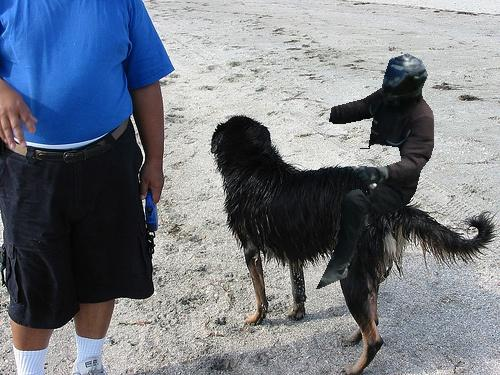tampered: (317, 54, 434, 289)
